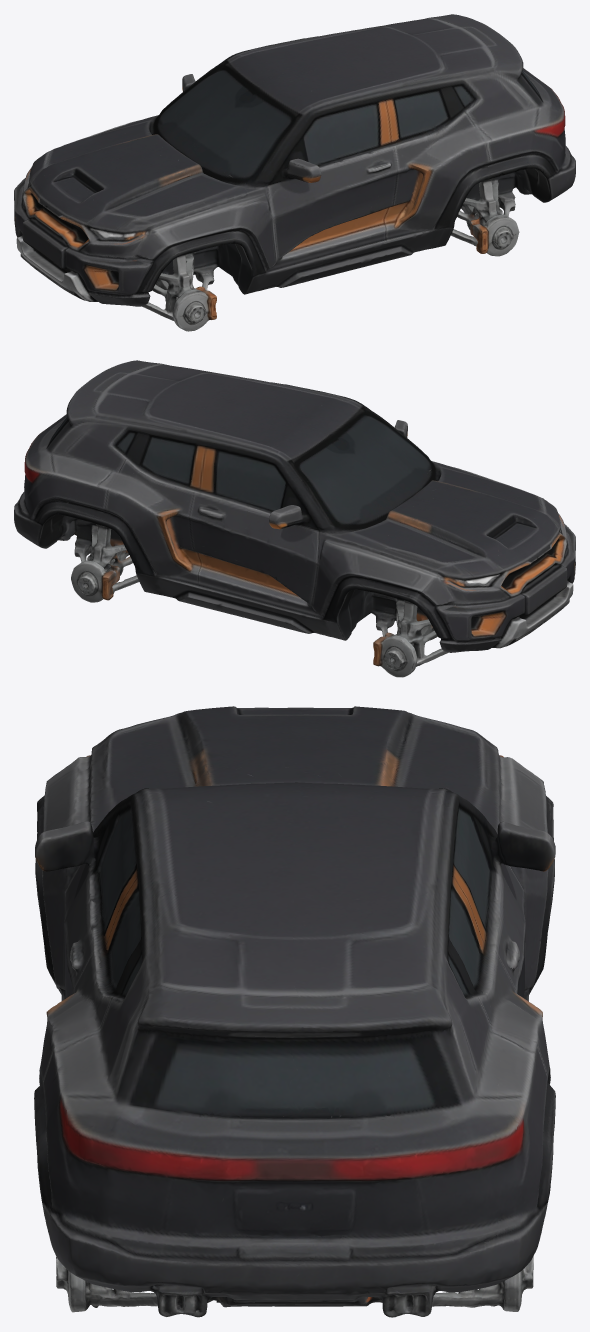
File: Meshy_AI_Iron_Jackal_0921070111_texture.glb
3 renders of one model, top to bottom at view 1: azimuth 30°, elevation 25°; view 2: azimuth 150°, elevation 25°; view 3: azimuth 270°, elevation 25°, orthographic. The views are drawn at different scales.
Bounding box in the file's own units: 1.9 × 0.6498 × 0.8601.
1 material, 1 textured.
